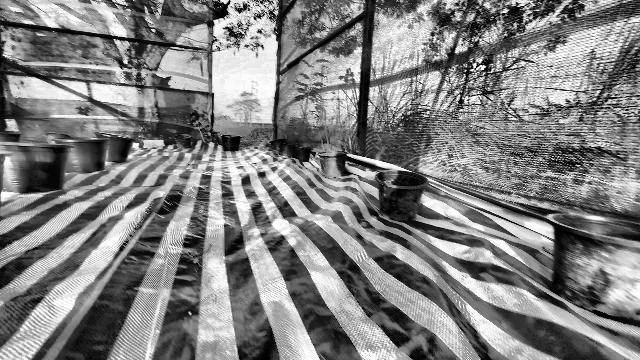pot: (545, 212, 640, 326), (373, 170, 428, 220)
